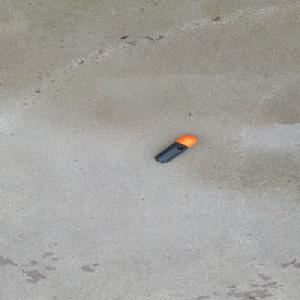PlasticPart: (153, 135, 197, 163)
